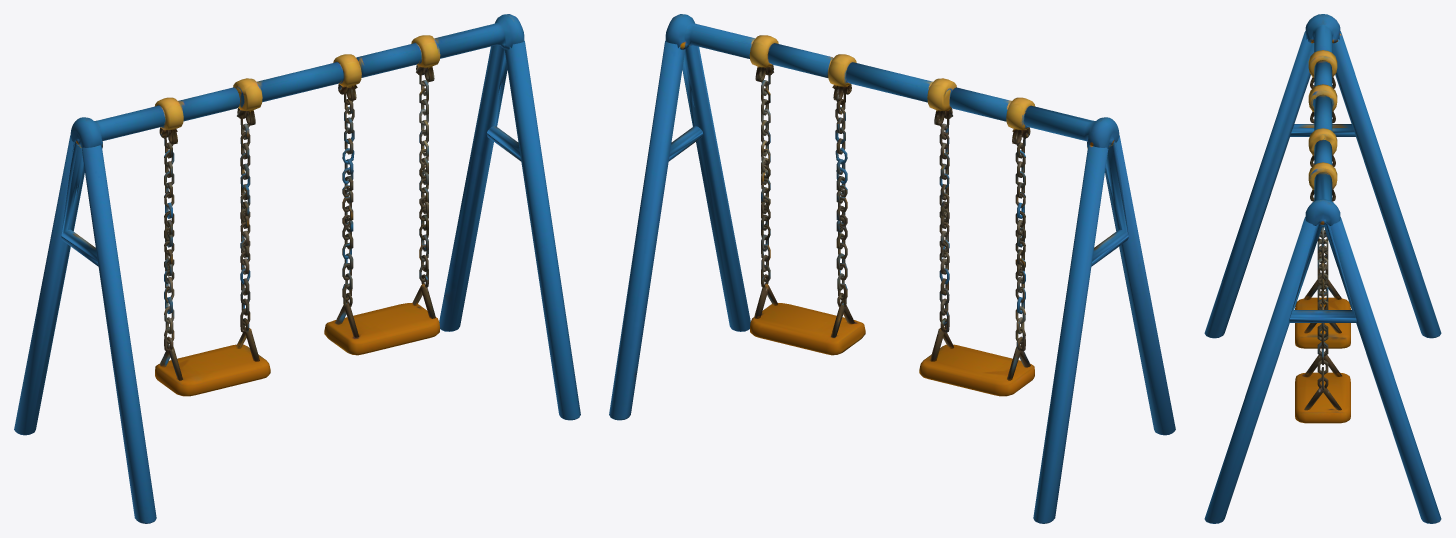
Rendered from Sports__a_playground_swing_set_5ac18ae0_v2.cluster.glb.
3 renders of one model, left to right at view 1: azimuth 30°, elevation 25°; view 2: azimuth 150°, elevation 25°; view 3: azimuth 270°, elevation 25°, orthographic. The views are drawn at different scales.
Parts seen in each view (by area): view 1: material; view 2: material; view 3: material.
Boxes of the visible parts, x1,y1,x2,y2 form: material: [14, 14, 580, 523]; material: [609, 14, 1175, 523]; material: [1204, 14, 1441, 523].
Bounding box in the file's own units: 1.9 × 1.46 × 0.9822.
1 material, 1 textured.
